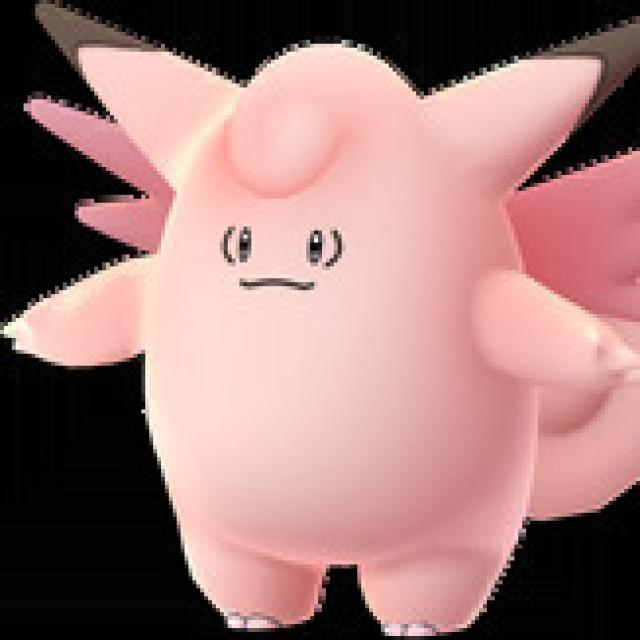Clefable: (22, 6, 640, 629)
